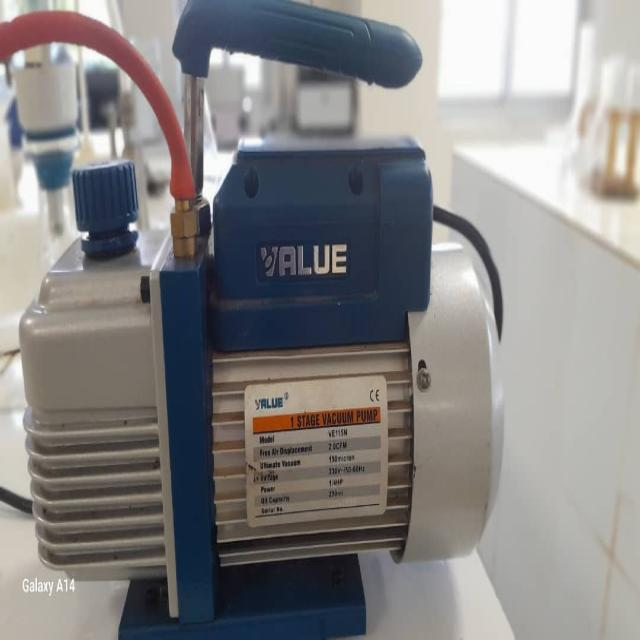Vacuum Pump: (9, 0, 514, 599)
